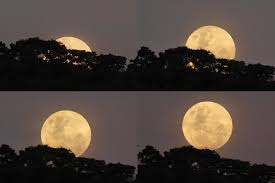moon: (40, 110, 91, 158)
